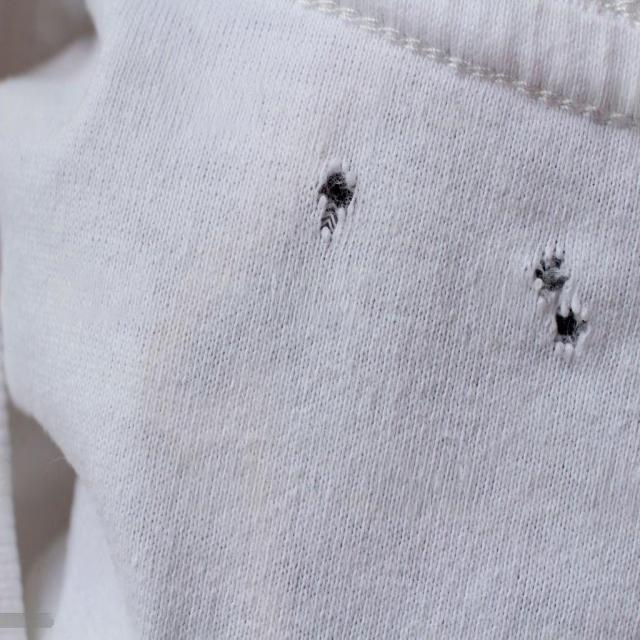Hole: (534, 241, 591, 359), (316, 156, 358, 253)
Line: (296, 0, 640, 133)
